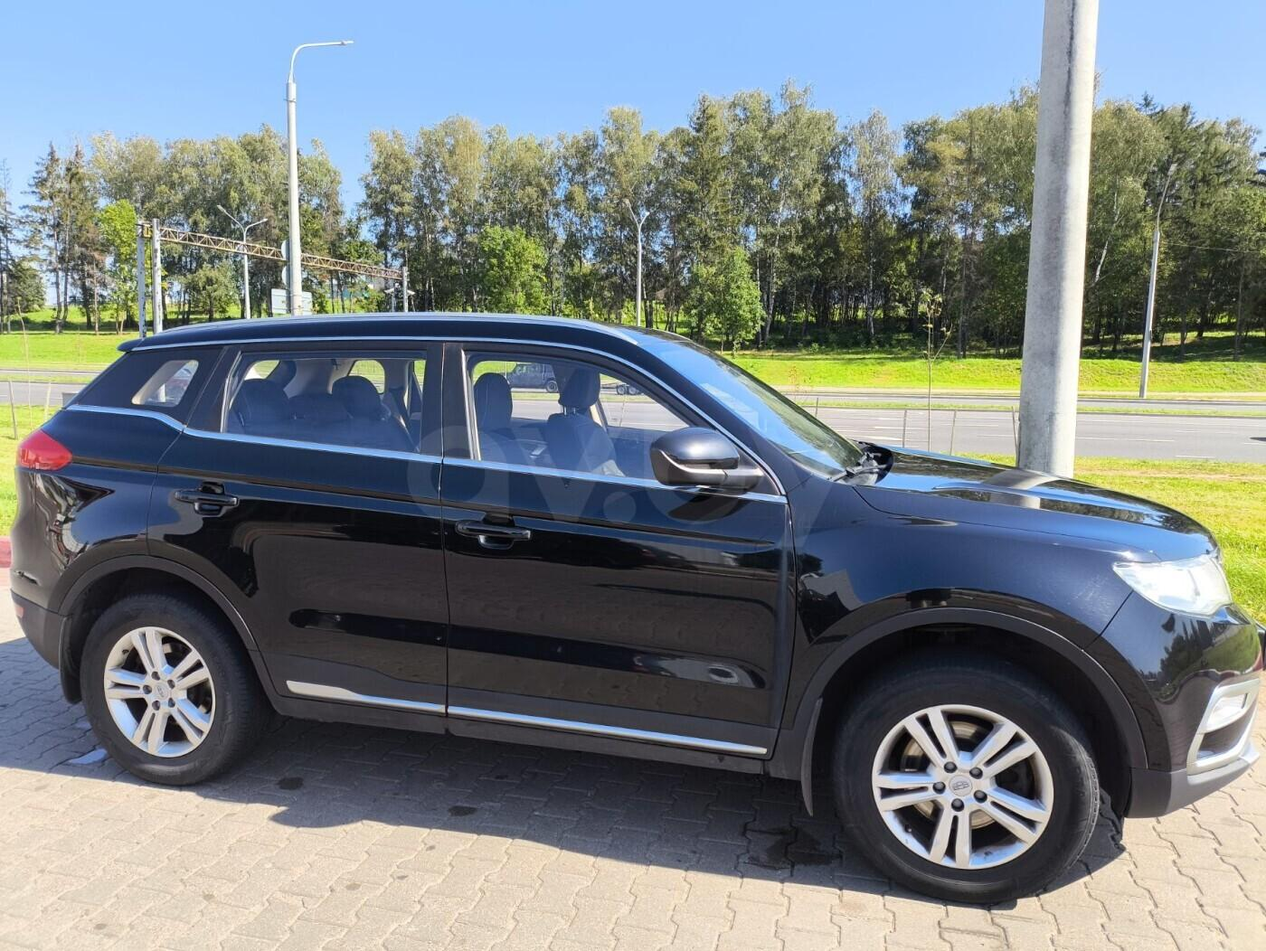Atlas_2016-2023: (5, 317, 1266, 909)
